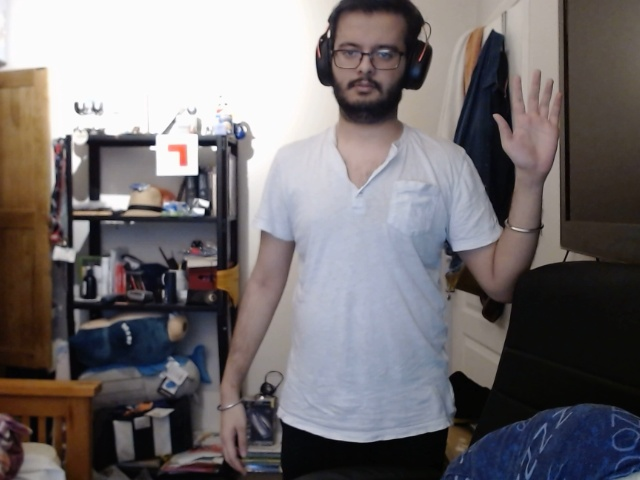Hello: (483, 66, 575, 181)
